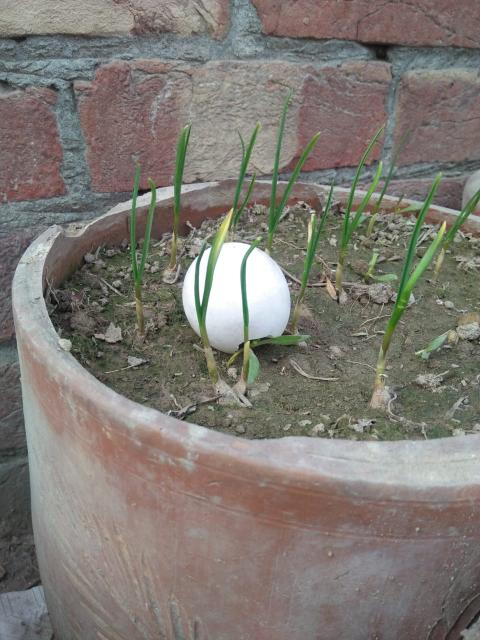Roto: (181, 240, 291, 354)
